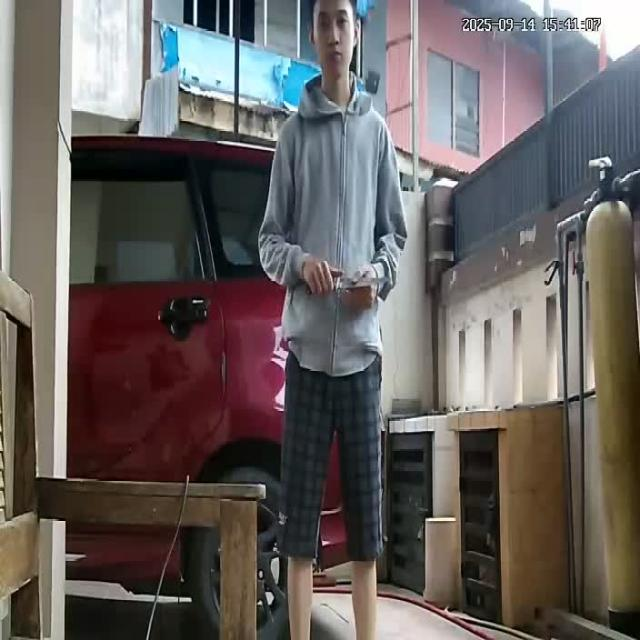senjata_tajam: (331, 274, 396, 291)
